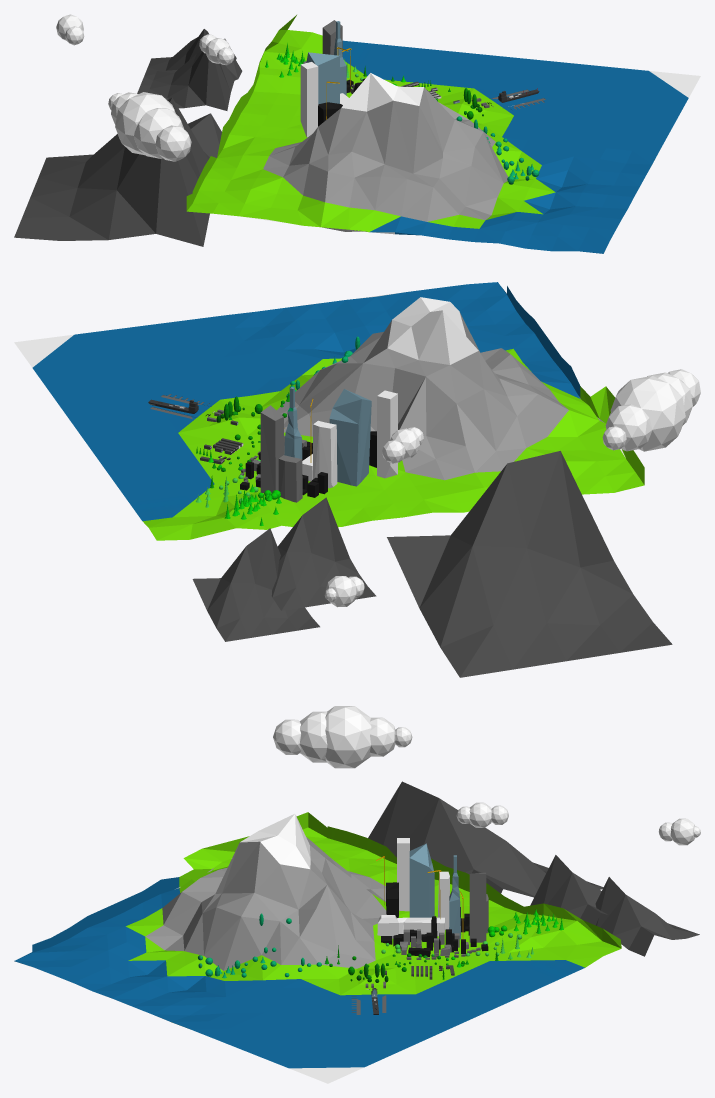
3 renders of one model, top to bottom at view 1: azimuth 30°, elevation 25°; view 2: azimuth 150°, elevation 25°; view 3: azimuth 270°, elevation 25°, orthographic. The views are drawn at different scales.
Visible parts, largest first — view 1: sol et iles, Nuage, buildings, sapins.1, port.1, black_building; view 2: sol et iles, buildings, Nuage, sapins.1, black_building, port.1; view 3: sol et iles, Nuage, buildings, sapins.1, black_building, Cube.1.
Boxes of the visible parts, <box> form: sol et iles: <box>14,15,700,253</box>; Nuage: <box>56,14,234,161</box>; buildings: <box>300,20,348,137</box>; sapins.1: <box>265,43,539,184</box>; port.1: <box>471,88,545,109</box>; black_building: <box>318,78,365,126</box>; sol et iles: <box>14,282,672,677</box>; buildings: <box>260,387,397,502</box>; Nuage: <box>325,369,700,607</box>; sapins.1: <box>196,336,360,525</box>; black_building: <box>240,431,376,497</box>; port.1: <box>148,394,223,421</box>; sol et iles: <box>14,781,699,1083</box>; Nuage: <box>273,706,700,845</box>; buildings: <box>377,838,488,942</box>; sapins.1: <box>198,909,563,982</box>; black_building: <box>381,882,488,956</box>; Cube.1: <box>400,929,468,955</box>.
Size of the model in its own units: 1669 by 424 by 1588.
1 material, 1 textured.
